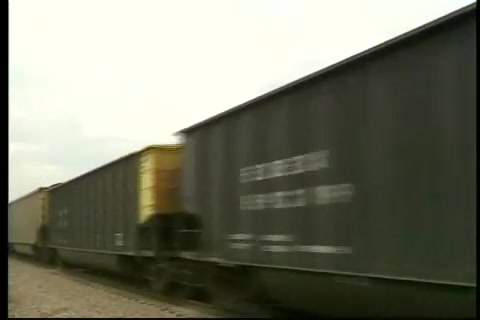train: (11, 4, 478, 310)
